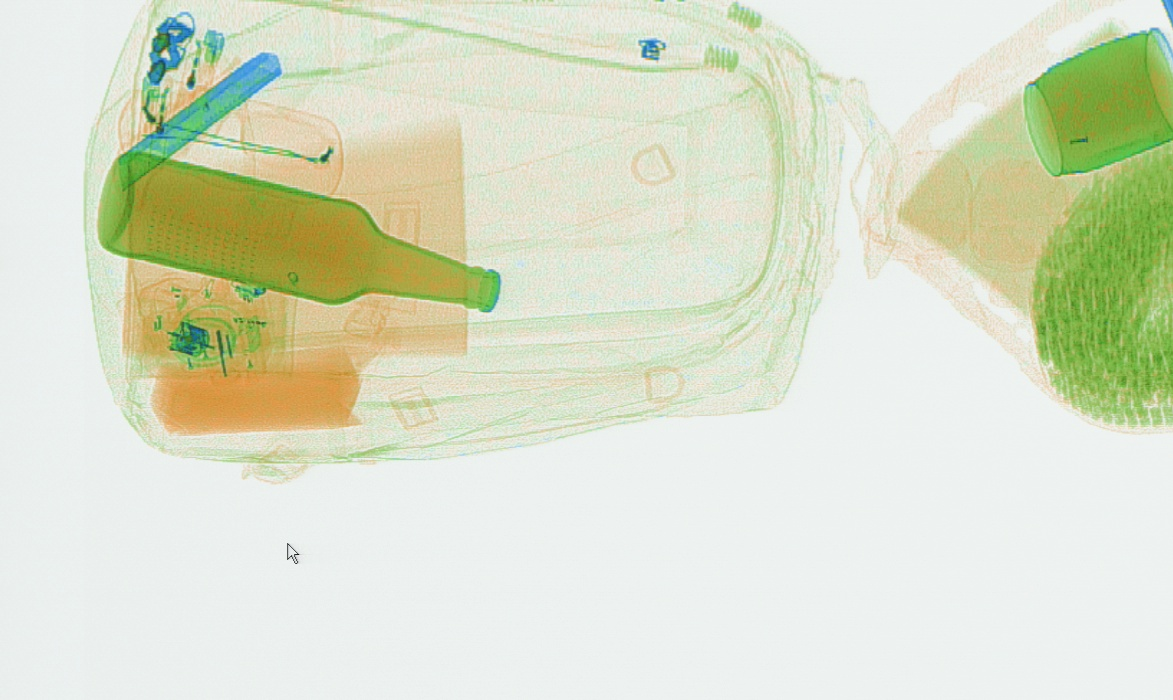firecrackers: (1025, 141, 1166, 434)
knife: (116, 50, 282, 191)
lighter: (172, 30, 224, 131), (133, 73, 175, 162)
